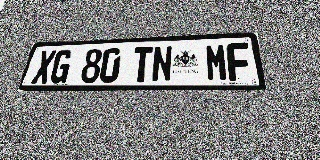0: (98, 48, 122, 83)
8: (80, 48, 104, 83)
F: (226, 43, 252, 81)
G: (48, 50, 74, 83)
M: (205, 43, 229, 81)
N: (151, 46, 173, 82)
T: (131, 46, 153, 82)
X: (31, 50, 57, 84)
